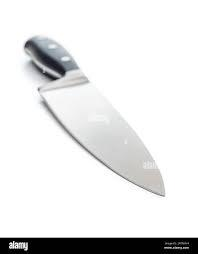Knife: (23, 33, 165, 197)
